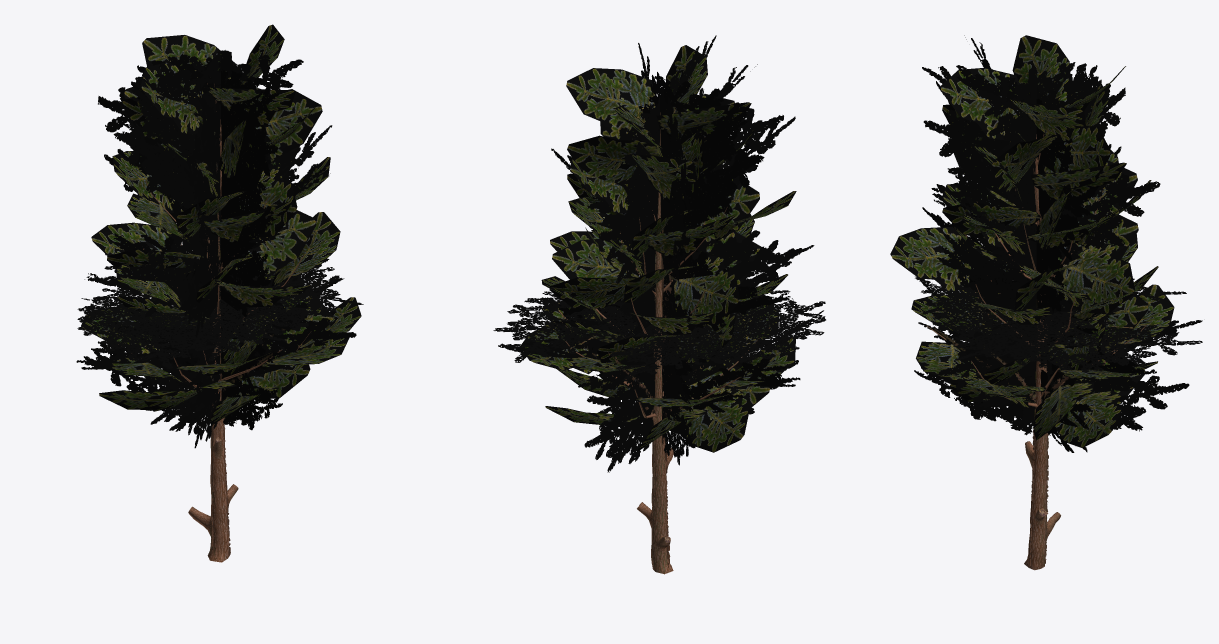
File: pine_g_model.fbx
3 renders of one model, left to right at view 1: azimuth 30°, elevation 25°; view 2: azimuth 150°, elevation 25°; view 3: azimuth 270°, elevation 25°, orthographic. The views are drawn at different scales.
Visible parts, largest first — view 1: Billboard, LOD0; view 2: Billboard, LOD0; view 3: LOD0, Billboard.
Boxes of the visible parts, x1,y1,x2,y2 form: Billboard: (76,50,363,555); LOD0: (81,24,361,562); Billboard: (493,35,825,569); LOD0: (521,45,796,574); LOD0: (890,35,1174,570); Billboard: (914,35,1202,566).
Size of what is drawn, in the model's own units: 44.96 by 78.09 by 44.08.
